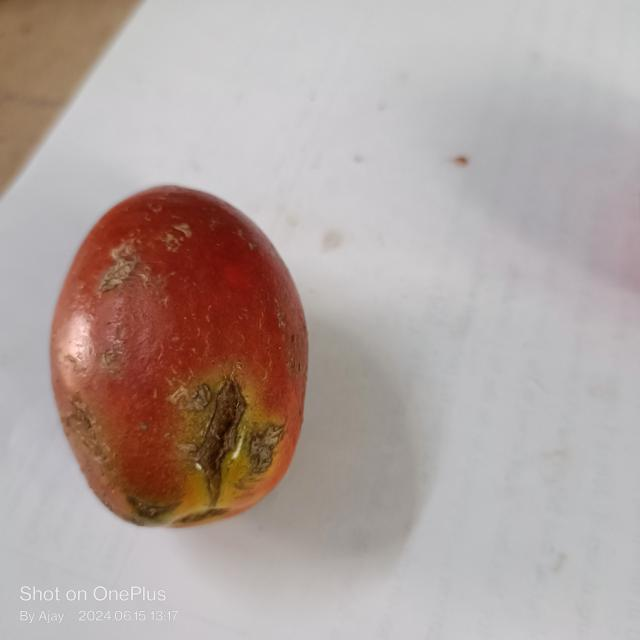Bacterial_Spot: (172, 379, 247, 507), (102, 239, 138, 293), (245, 422, 280, 473)
